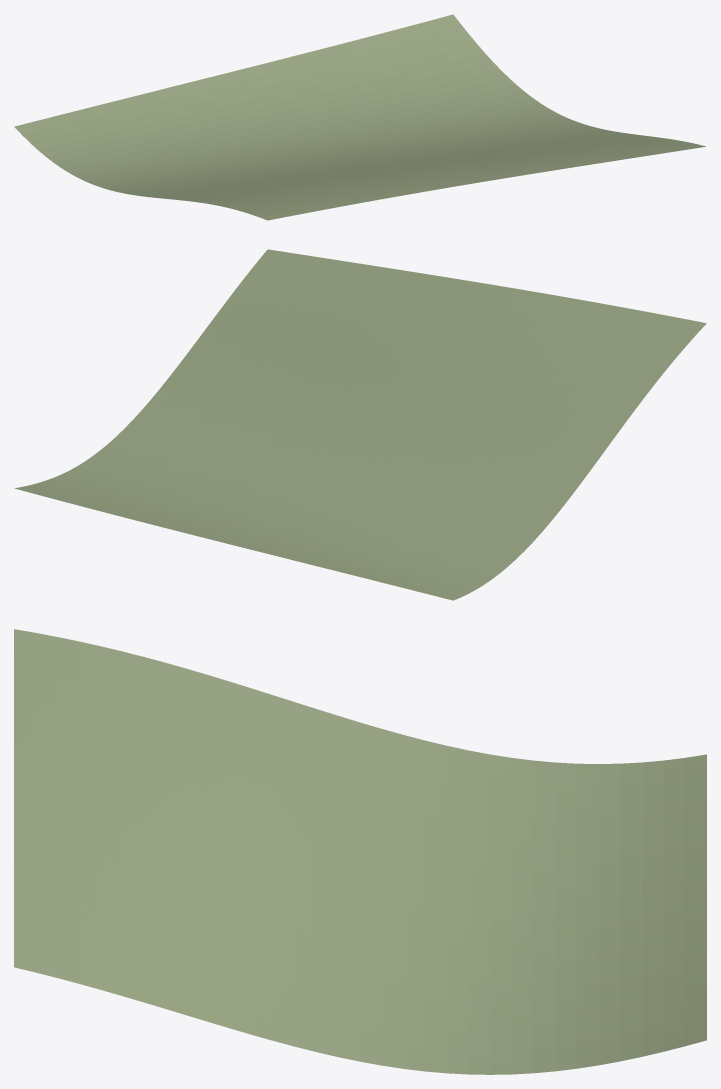
The model's file is expanse-1-5.glb.
The picture shows the model from 3 angles, top to bottom: view 1: azimuth 30°, elevation 25°; view 2: azimuth 150°, elevation 25°; view 3: azimuth 270°, elevation 25°; orthographic projection. The views are drawn at different scales.
Parts seen in each view (by area): view 1: expanse-1-5; view 2: expanse-1-5; view 3: expanse-1-5.
Part boxes in pixels (x1=…): expanse-1-5: x1=14, y1=14, x2=705, y2=220; expanse-1-5: x1=14, y1=249, x2=706, y2=600; expanse-1-5: x1=14, y1=629, x2=706, y2=1074.
Size of the model in its own units: 256 by 62.34 by 256.
